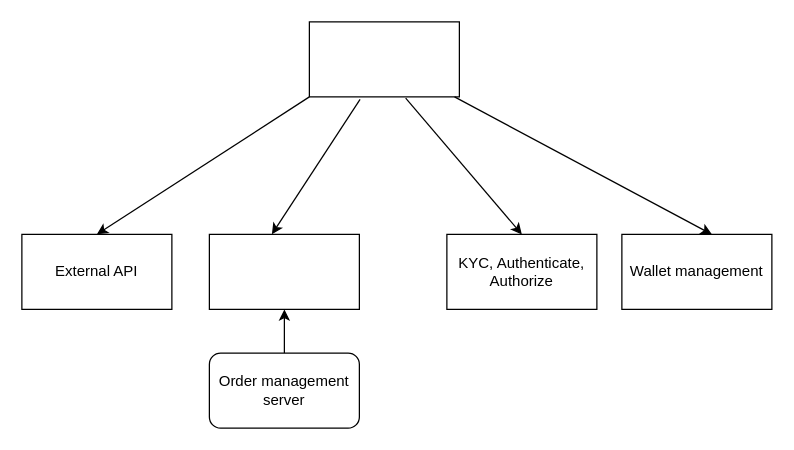
The diagram is 794 pixels wide and 450 high, and some of its shapes have lost their labels. The centre of each missing label's shape, as x and y in pixels:
Trade engine: pixel 283 271
UI: pixel 383 59
